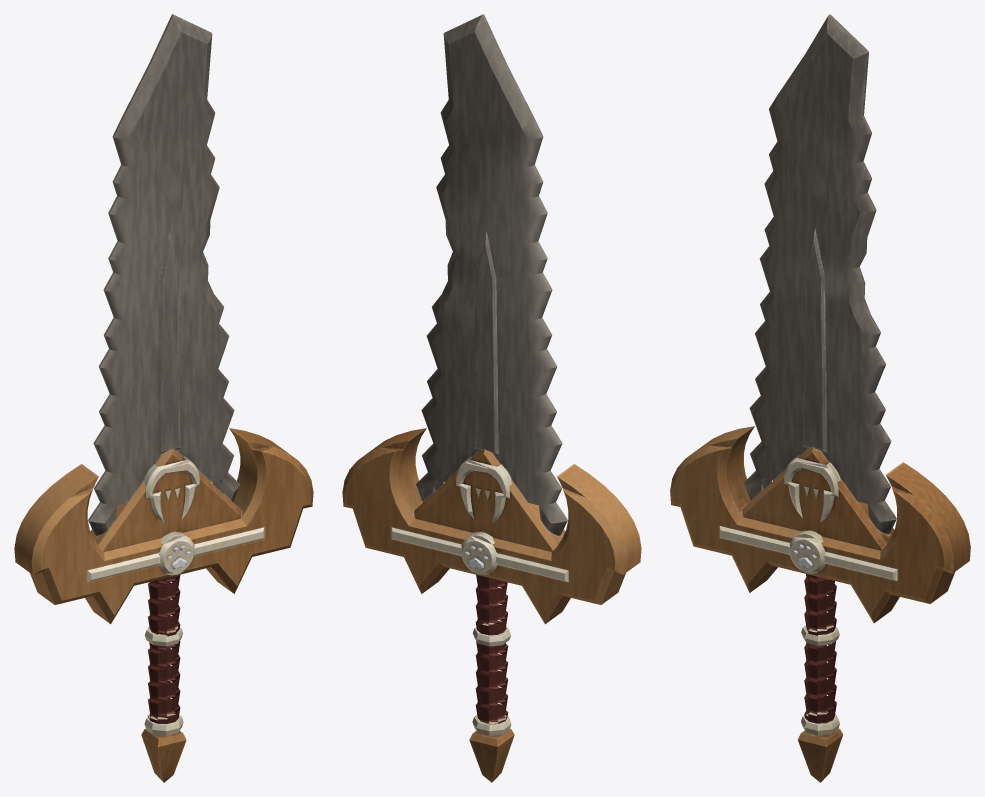
File: Alpha's Jaw.fbx
3 renders of one model, left to right at view 1: azimuth 30°, elevation 25°; view 2: azimuth 150°, elevation 25°; view 3: azimuth 330°, elevation 25°, orthographic.
Visible parts, largest first — view 1: Alpha's Jaw_Body; view 2: Alpha's Jaw_Body; view 3: Alpha's Jaw_Body.
Part boxes in pixels (x1=…): Alpha's Jaw_Body: x1=14, y1=14, x2=313, y2=782; Alpha's Jaw_Body: x1=342, y1=14, x2=641, y2=782; Alpha's Jaw_Body: x1=670, y1=14, x2=970, y2=782.
Size of the model in its own units: 2.26 by 5.87 by 0.45.
